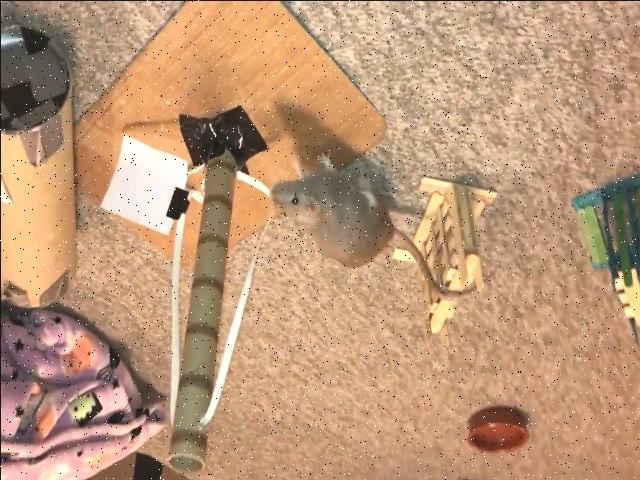Tikus: (268, 152, 495, 297)
